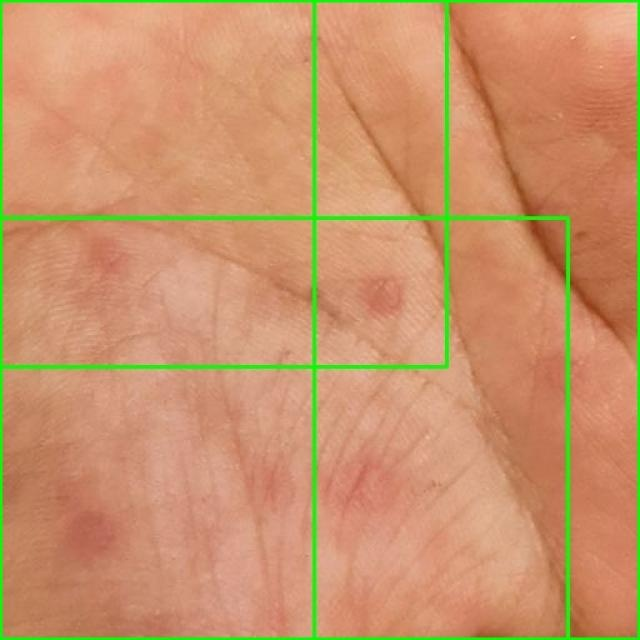Contact Dermatitis: (0, 218, 568, 639), (314, 0, 639, 639), (0, 0, 446, 366)
